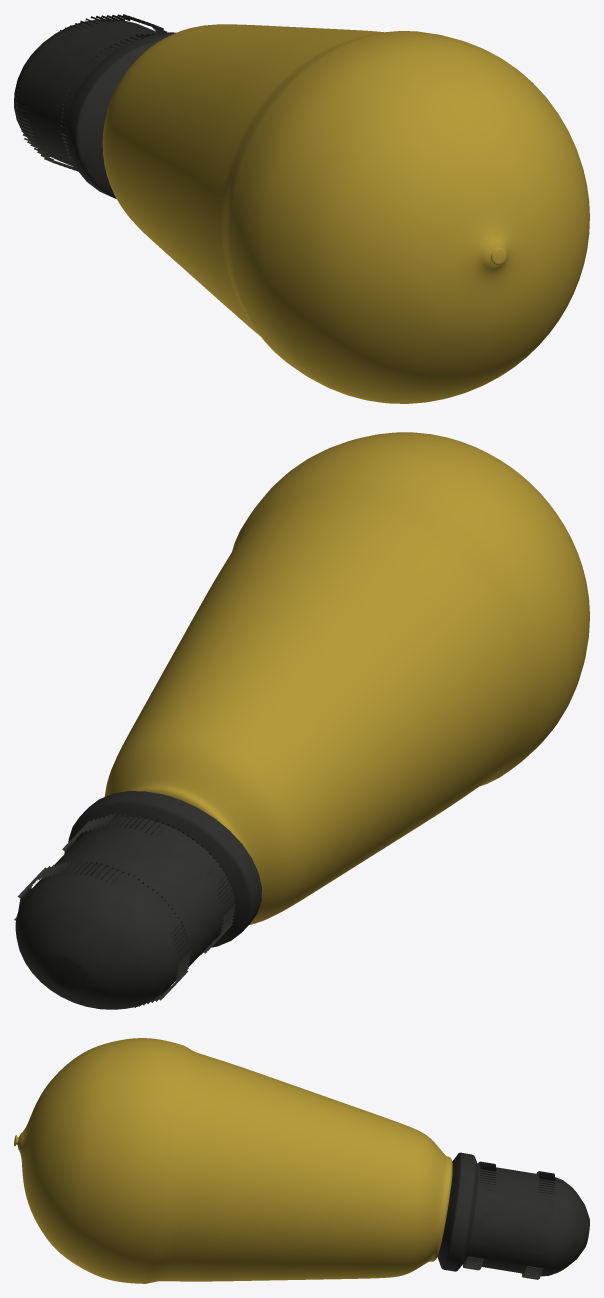
The model's file is lighting_light_bulb_with_bulb_holder_3.glb.
The picture shows the model from 3 angles, top to bottom: view 1: azimuth 30°, elevation 25°; view 2: azimuth 150°, elevation 25°; view 3: azimuth 270°, elevation 25°; orthographic projection. The views are drawn at different scales.
Parts seen in each view (by area): view 1: Cylinder.002; view 2: Cylinder.002; view 3: Cylinder.002.
Boxes of the visible parts, left/top/right/bottom form: Cylinder.002: left=14, top=14, right=589, bottom=403; Cylinder.002: left=14, top=432, right=589, bottom=1009; Cylinder.002: left=14, top=1038, right=589, bottom=1283.
Bounding box in the file's own units: 0.0912 × 0.0914 × 0.2136.
Materials: 5 (2 with a texture image).
